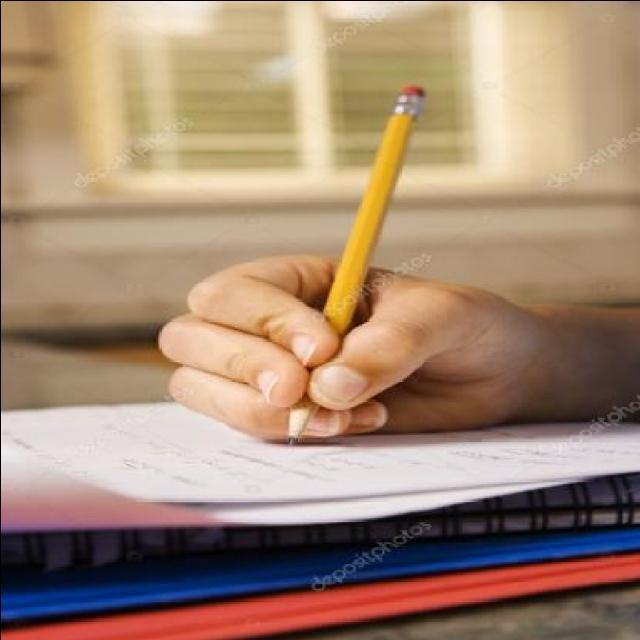Pencil: (277, 398, 320, 452)
